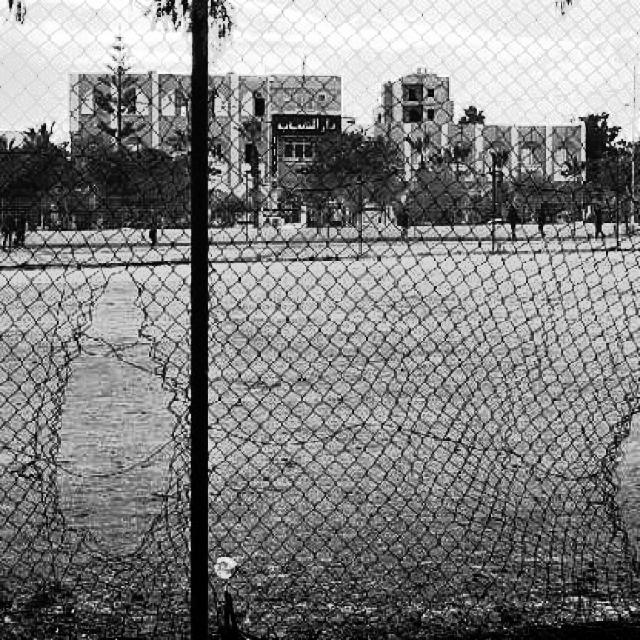anomaly-fence: (38, 254, 186, 584), (561, 366, 640, 593)
